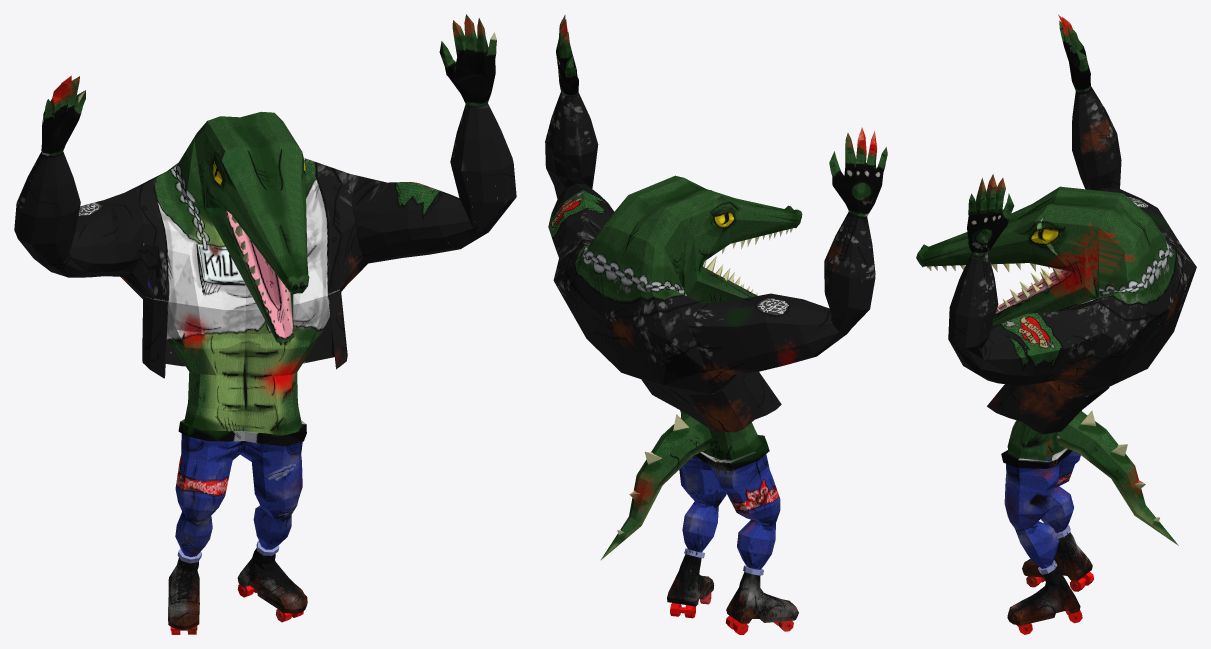
The model's file is cocodrilaBonesSelect_000006.obj.
3 renders of one model, left to right at view 1: azimuth 30°, elevation 25°; view 2: azimuth 150°, elevation 25°; view 3: azimuth 270°, elevation 25°, orthographic. The views are drawn at different scales.
Parts seen in each view (by area): view 1: Crocodile.002_Cylinder.002; view 2: Crocodile.002_Cylinder.002; view 3: Crocodile.002_Cylinder.002.
Boxes of the visible parts, x1,y1,x2,y2 form: Crocodile.002_Cylinder.002: (14,14,516,634); Crocodile.002_Cylinder.002: (545,14,887,634); Crocodile.002_Cylinder.002: (916,14,1196,634).
Bounding box in the file's own units: 6.06 × 7.9 × 3.81.
